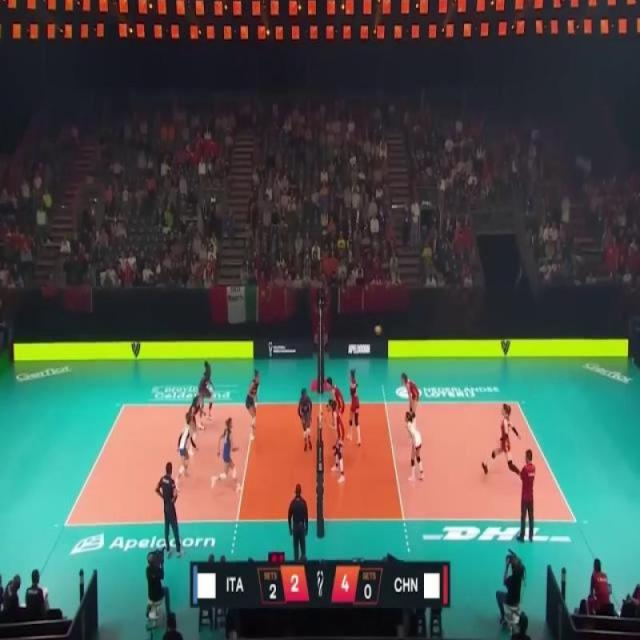volleyball: (373, 325, 382, 336)
